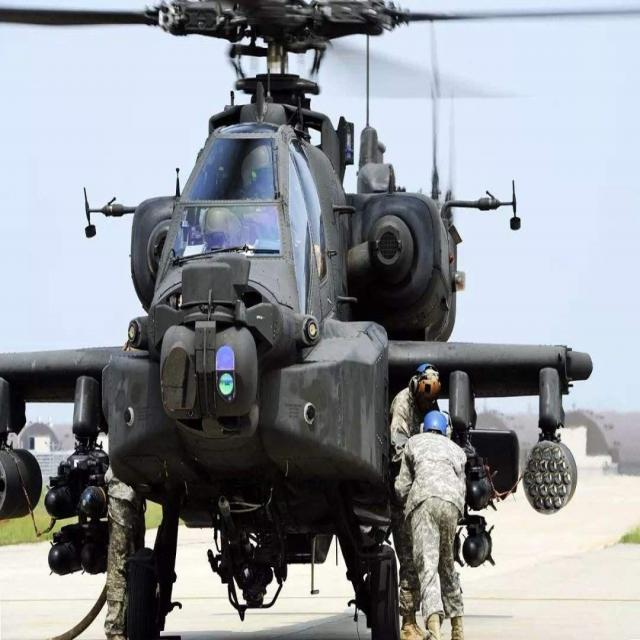MIL_HELO: (0, 0, 596, 640)
